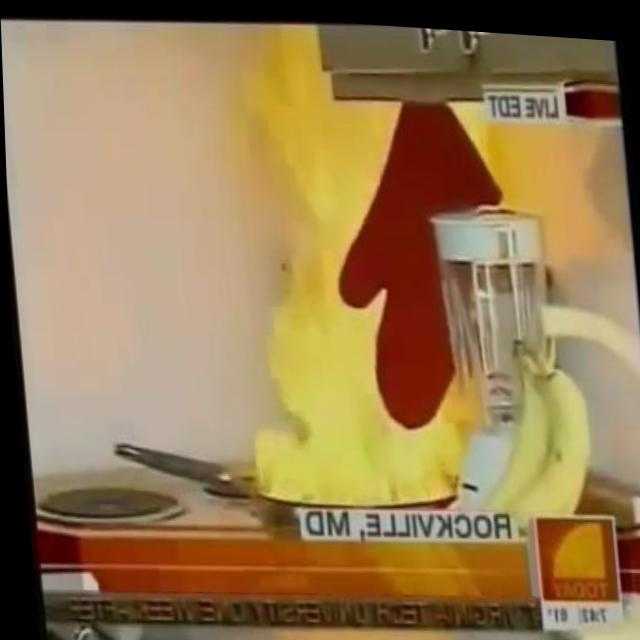fire: (219, 85, 453, 504)
